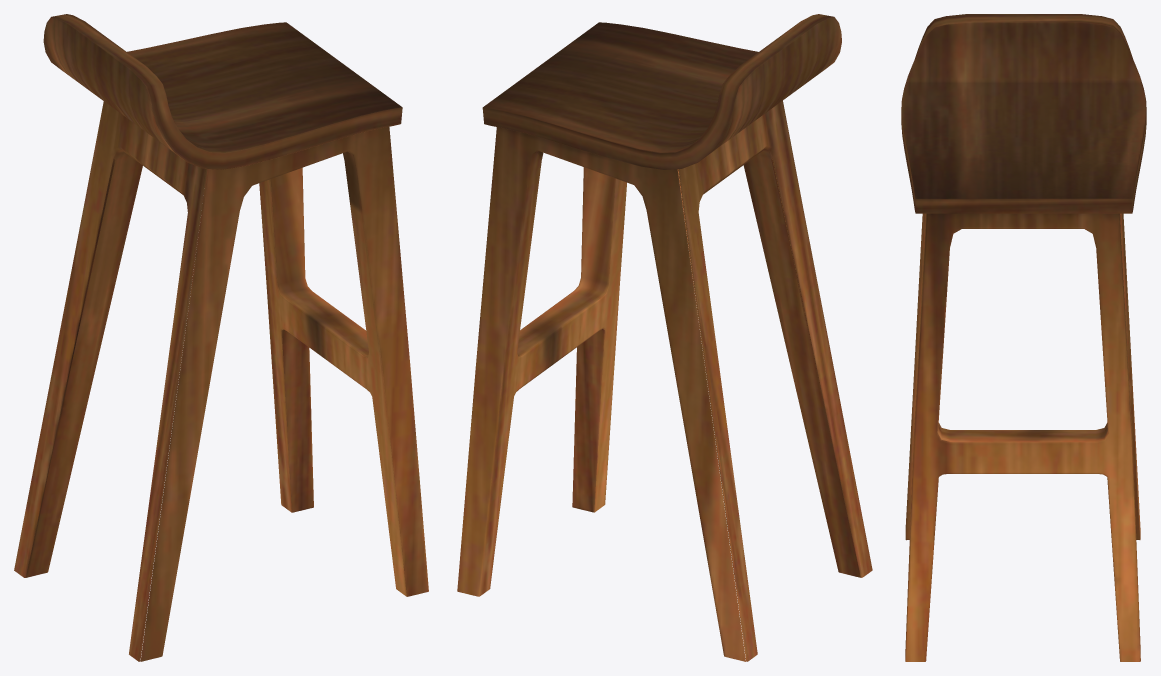
Rendered from Chair.glb.
3 renders of one model, left to right at view 1: azimuth 30°, elevation 25°; view 2: azimuth 150°, elevation 25°; view 3: azimuth 270°, elevation 25°, orthographic. The views are drawn at different scales.
Parts seen in each view (by area): view 1: SM_BarStools_surfaceShader3_0; view 2: SM_BarStools_surfaceShader3_0; view 3: SM_BarStools_surfaceShader3_0.
Boxes of the visible parts, <box> form: SM_BarStools_surfaceShader3_0: <box>14,14,428,661</box>; SM_BarStools_surfaceShader3_0: <box>457,14,872,661</box>; SM_BarStools_surfaceShader3_0: <box>901,14,1146,661</box>.
Size of the model in its own units: 0.4017 by 0.7464 by 0.3152.
1 material, 1 textured.
